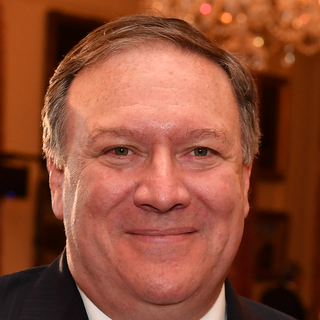eye: (90, 139, 147, 166), (175, 140, 226, 166)
